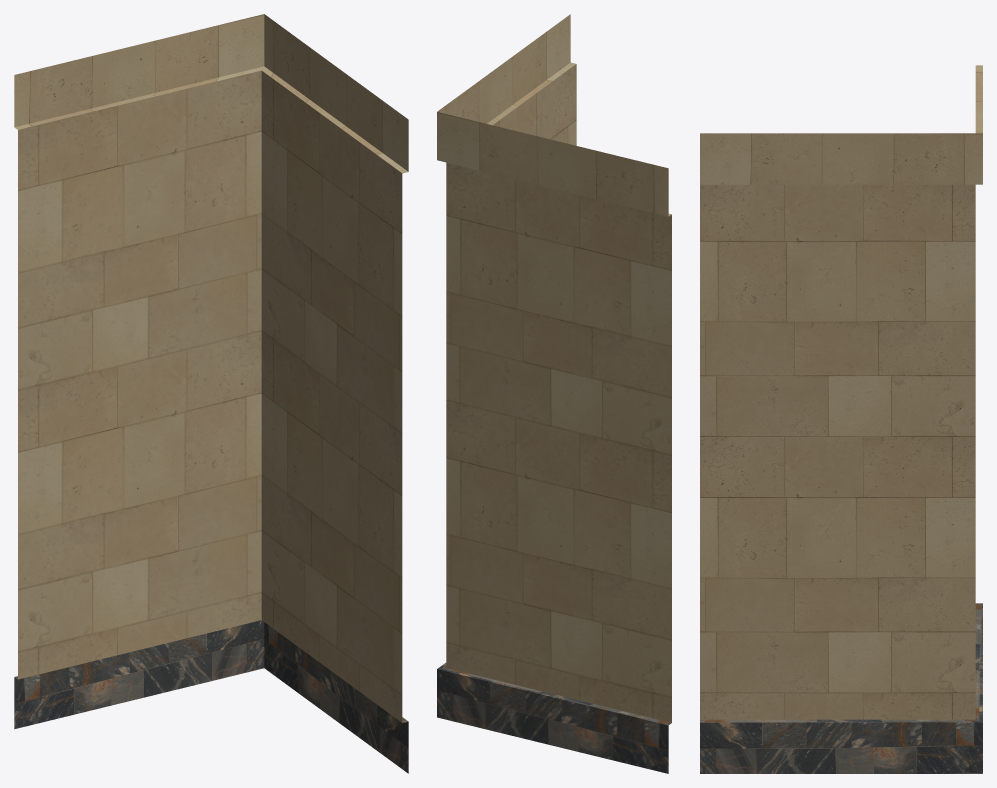
The model's file is OuterCorner_01_2x2.fbx.
3 views of the same model, side by side, from view 1: azimuth 30°, elevation 25°; view 2: azimuth 150°, elevation 25°; view 3: azimuth 270°, elevation 25° (orthographic). The views are drawn at different scales.
Visible parts, largest first — view 1: Cube.133; view 2: Cube.133; view 3: Cube.133.
Part boxes in pixels (<box>): Cube.133: <box>14,14,408,773</box>; Cube.133: <box>437,14,671,773</box>; Cube.133: <box>700,65,982,773</box>.
Bounding box in the file's own units: 200 × 500 × 200.
